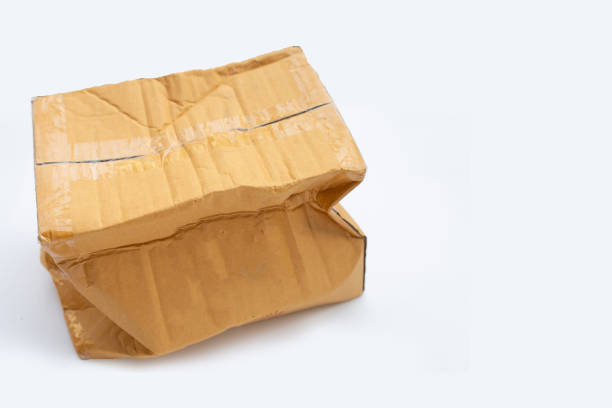damaged package: (32, 255, 148, 370), (297, 162, 378, 255)
